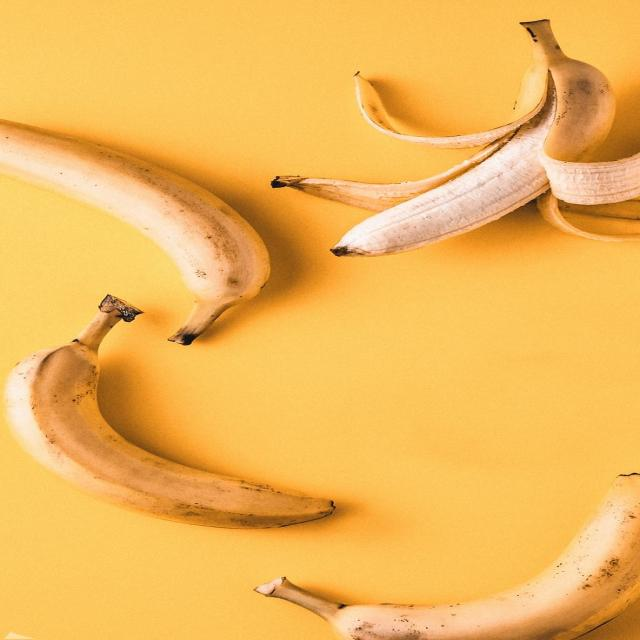banana: (6, 296, 333, 528), (332, 21, 614, 255), (256, 474, 639, 639), (0, 120, 269, 344), (272, 134, 513, 212)
